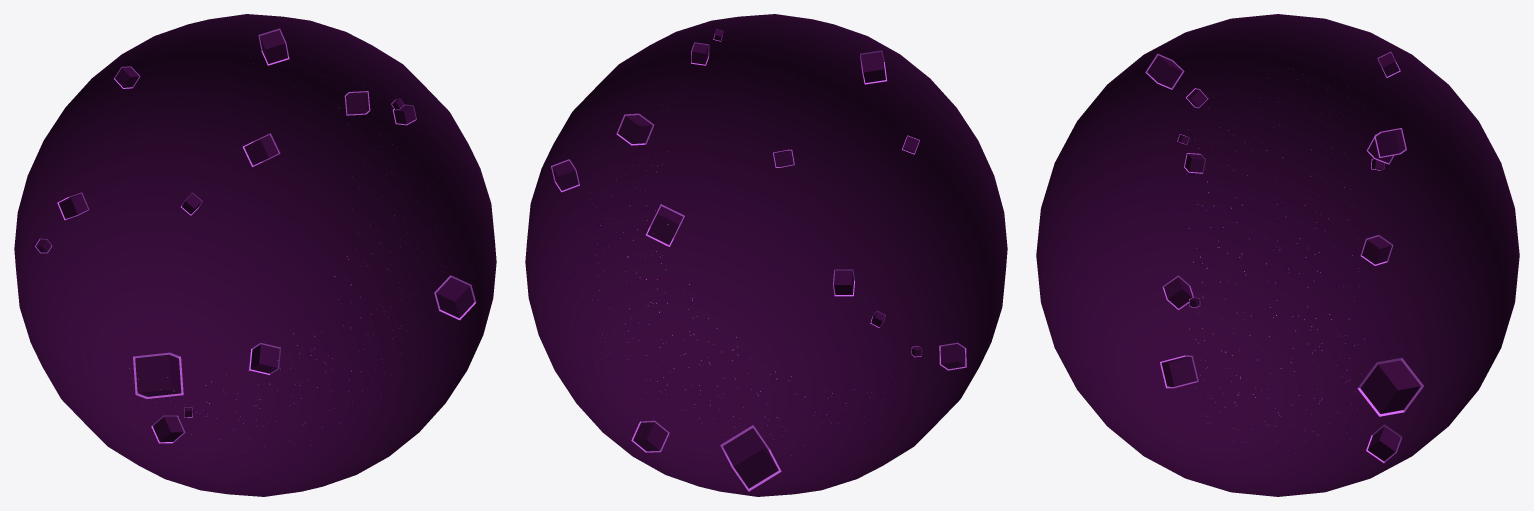
The model's file is background-space.glb.
The picture shows the model from 3 angles, left to right: view 1: azimuth 30°, elevation 25°; view 2: azimuth 150°, elevation 25°; view 3: azimuth 270°, elevation 25°; orthographic projection.
Parts seen in each view (by area): view 1: background-space; view 2: background-space; view 3: background-space.
Boxes of the visible parts, x1,y1,x2,y2 form: background-space: [14, 14, 496, 496]; background-space: [525, 14, 1007, 496]; background-space: [1036, 14, 1519, 496].
Size of the model in its own units: 1 by 1 by 1.
